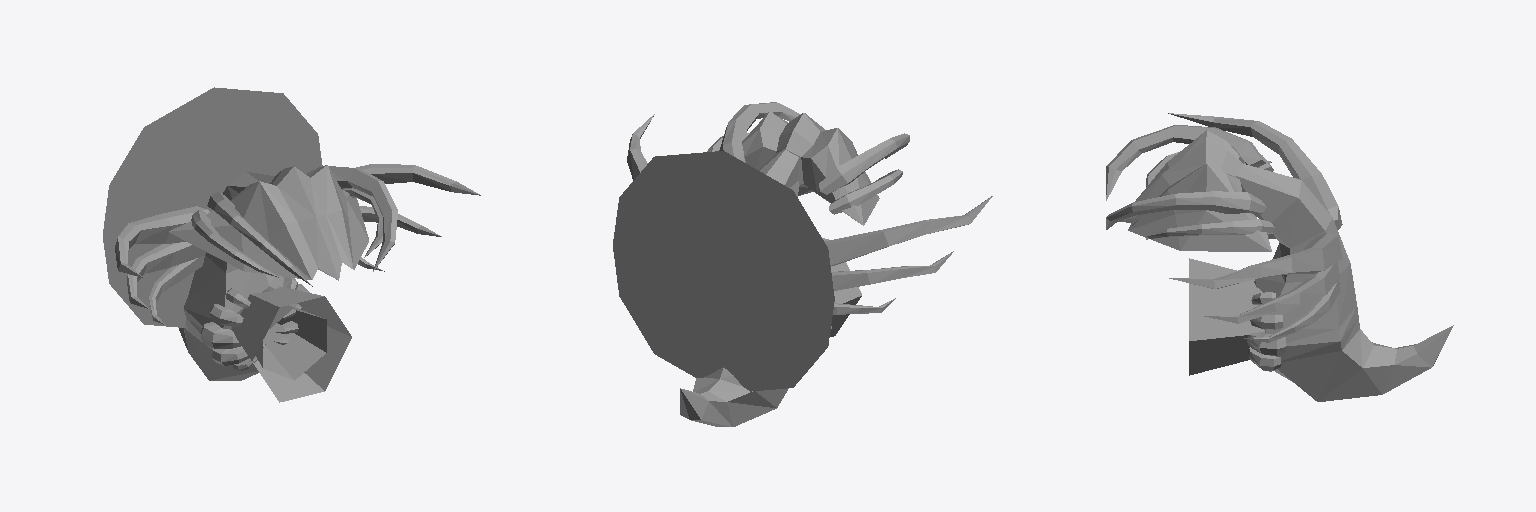
Rendered from spectre.obj.
The picture shows the model from 3 angles: view 1: azimuth 30°, elevation 25°; view 2: azimuth 150°, elevation 25°; view 3: azimuth 270°, elevation 25°; orthographic projection.
Parts seen in each view (by area): view 1: Effect01, Head, Body, Effect02, Effect03, ArmRightTop, MouthLeftTop, ArmRightMiddle, ArmLeftTop, MouthRightTop, MouthRightBottom, ArmRightBottom (+4 smaller); view 2: Effect01, Head, Body, ArmRightTop, MouthRightTop, MouthLeftTop, ArmRightMiddle, MouthRightBottom, Effect02, ArmLeftTop; view 3: Body, Head, Effect02, ArmRightTop, ArmLeftTop, MouthRightTop, MouthLeftTop, ArmLeftMiddle, MouthLeftBottom, ArmLeftBottom, MawLeft01.
Boxes of the visible parts, x1,y1,x2,y2 form: Effect01: [103, 87, 322, 327]; Head: [169, 165, 368, 280]; Body: [179, 171, 288, 380]; Effect02: [231, 287, 351, 402]; Effect03: [255, 306, 326, 380]; ArmRightTop: [115, 206, 209, 277]; MouthLeftTop: [329, 166, 397, 271]; ArmRightMiddle: [127, 242, 205, 308]; ArmLeftTop: [356, 164, 480, 195]; MouthRightTop: [207, 191, 312, 286]; MouthRightBottom: [191, 210, 280, 277]; ArmRightBottom: [149, 256, 204, 324]; Effect01: [613, 151, 834, 391]; Head: [742, 111, 879, 225]; Body: [680, 149, 799, 426]; ArmRightTop: [824, 196, 992, 265]; MouthRightTop: [819, 133, 909, 194]; MouthLeftTop: [719, 102, 800, 161]; ArmRightMiddle: [831, 251, 953, 290]; MouthRightBottom: [829, 169, 902, 214]; Effect02: [822, 238, 861, 336]; ArmLeftTop: [627, 114, 654, 180]; Body: [1237, 164, 1453, 401]; Head: [1118, 130, 1271, 251]; Effect02: [1189, 258, 1264, 375]; ArmRightTop: [1168, 113, 1342, 229]; ArmLeftTop: [1169, 233, 1342, 288]; MouthRightTop: [1106, 125, 1265, 200]; MouthLeftTop: [1106, 191, 1266, 229]; ArmLeftMiddle: [1204, 262, 1339, 323]; MouthLeftBottom: [1146, 219, 1274, 239]; ArmLeftBottom: [1244, 280, 1340, 342]; MawLeft01: [1246, 332, 1285, 355].
Bounding box in the file's own units: 2.64 × 2.02 × 2.34.